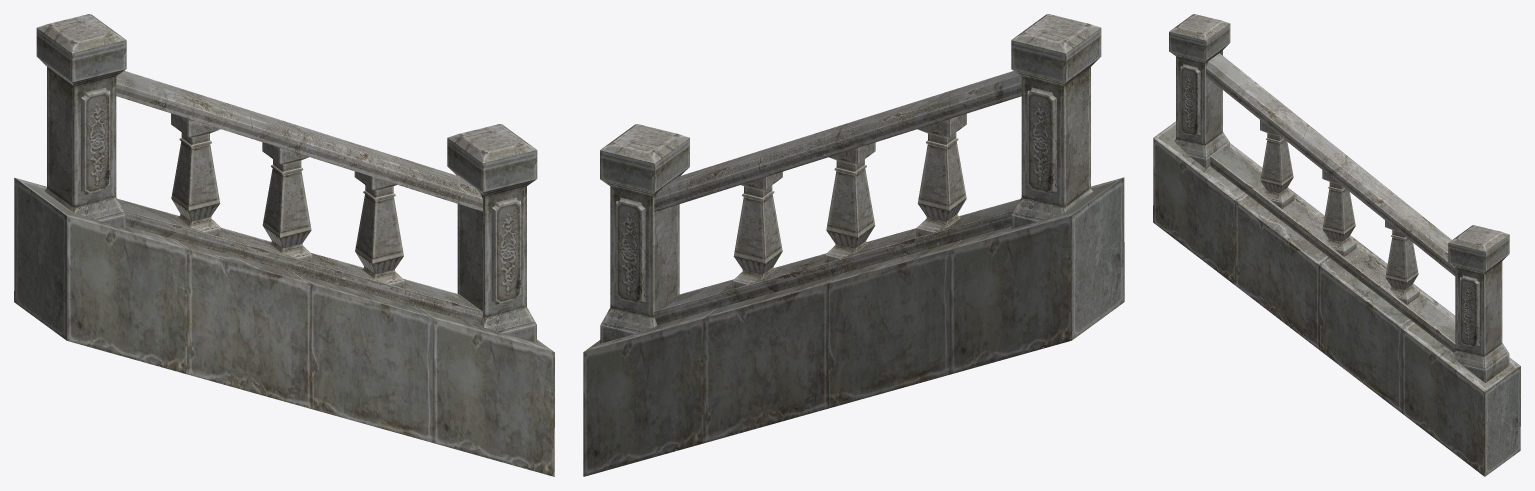
Rendered from bg_lut_lucastle_stairfence01a_sm_lkj.FBX.
3 views of the same model, side by side, from view 1: azimuth 30°, elevation 25°; view 2: azimuth 150°, elevation 25°; view 3: azimuth 330°, elevation 25° (orthographic). The views are drawn at different scales.
Visible parts, largest first — view 1: bg_lut_lucastle_stairfence01a_sm_lkj; view 2: bg_lut_lucastle_stairfence01a_sm_lkj; view 3: bg_lut_lucastle_stairfence01a_sm_lkj.
Boxes of the visible parts, left/top/right/bottom form: bg_lut_lucastle_stairfence01a_sm_lkj: left=14, top=14, right=554, bottom=476; bg_lut_lucastle_stairfence01a_sm_lkj: left=583, top=14, right=1124, bottom=476; bg_lut_lucastle_stairfence01a_sm_lkj: left=1153, top=14, right=1520, bottom=476.
Bounding box in the file's own units: 256 × 270 × 48.
